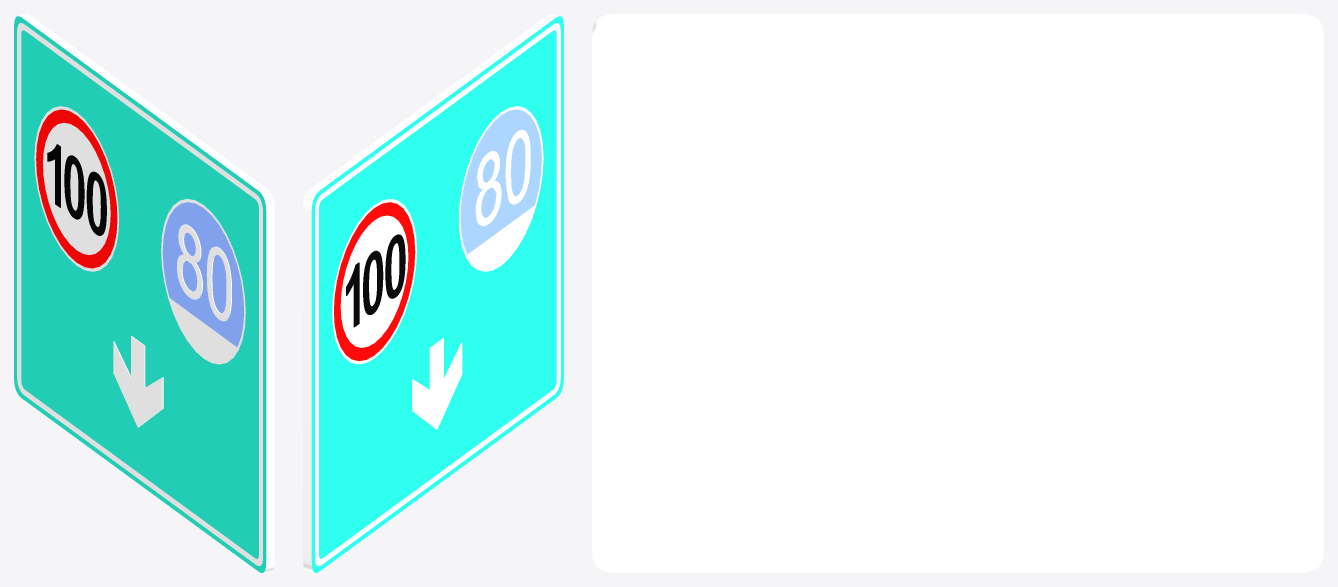
The model's file is Speed_Limit_80-100.glb.
3 views of the same model, side by side, from view 1: azimuth 30°, elevation 25°; view 2: azimuth 150°, elevation 25°; view 3: azimuth 270°, elevation 25° (orthographic). The views are drawn at different scales.
Parts seen in each view (by area): view 1: Speed_Limit_80_100; view 2: Speed_Limit_80_100; view 3: Speed_Limit_80_100.
Boxes of the visible parts, bbox=[...] form: Speed_Limit_80_100: bbox=[14, 14, 274, 572]; Speed_Limit_80_100: bbox=[303, 14, 563, 572]; Speed_Limit_80_100: bbox=[592, 14, 1323, 572].
Size of the model in its own units: 0.0331 by 1.25 by 1.5.
